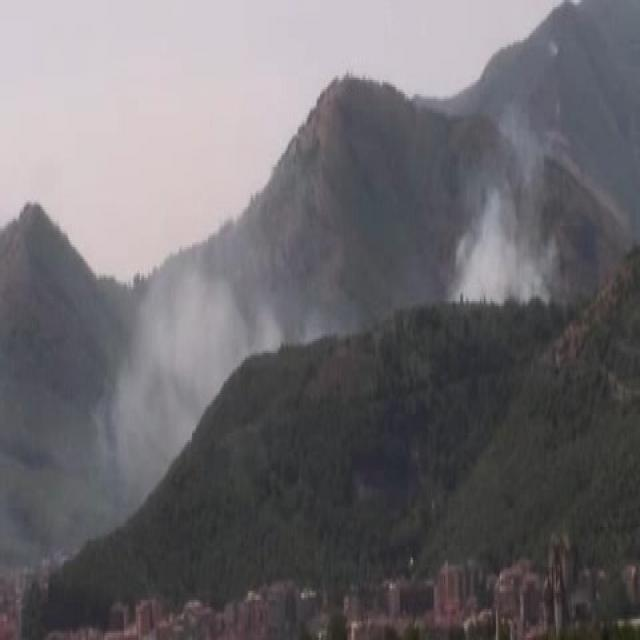smoke: (103, 260, 236, 448), (449, 187, 552, 300)
